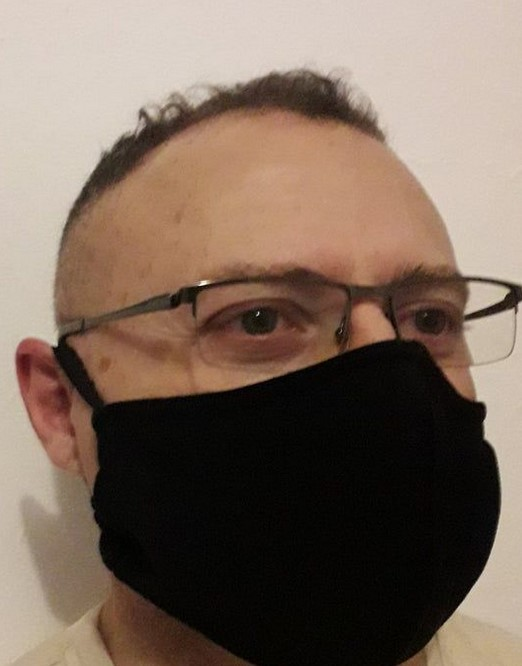face_with_mask: (22, 66, 516, 665)
